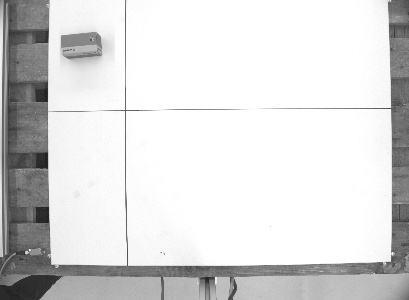b3: (58, 29, 103, 61)
